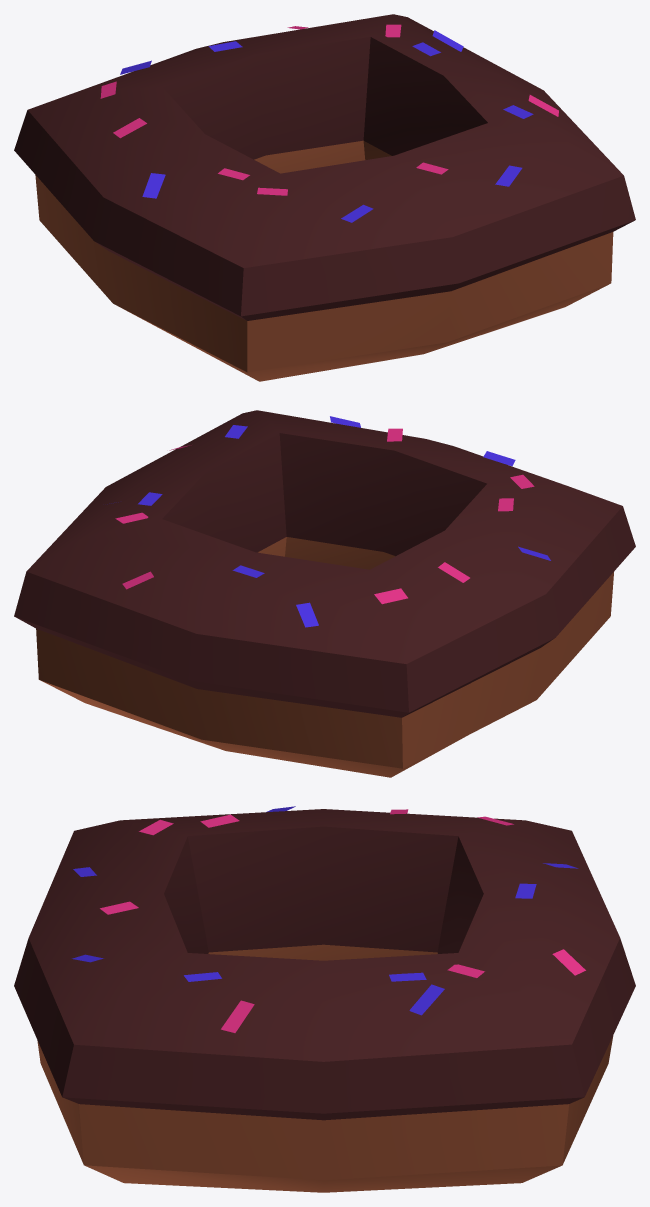
The model's file is Head 11.FBX.
3 views of the same model, one above another, from view 1: azimuth 30°, elevation 25°; view 2: azimuth 150°, elevation 25°; view 3: azimuth 270°, elevation 25° (orthographic). The views are drawn at different scales.
Parts seen in each view (by area): view 1: Head 011; view 2: Head 011; view 3: Head 011.
Part boxes in pixels (left/top/right/bottom): Head 011: left=14, top=14, right=635, bottom=381; Head 011: left=14, top=410, right=635, bottom=777; Head 011: left=14, top=806, right=635, bottom=1192.
Bounding box in the file's own units: 117 × 45.62 × 119.
1 material, 1 textured.
